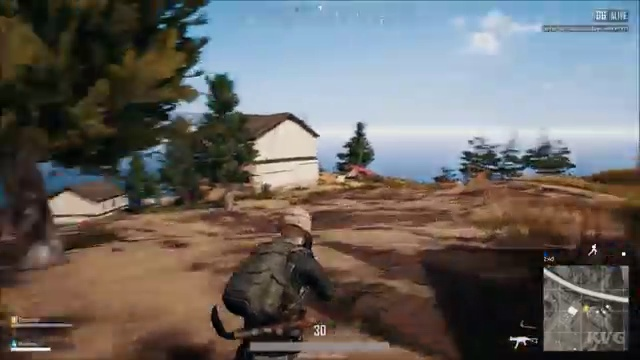Player: (208, 201, 375, 315)
